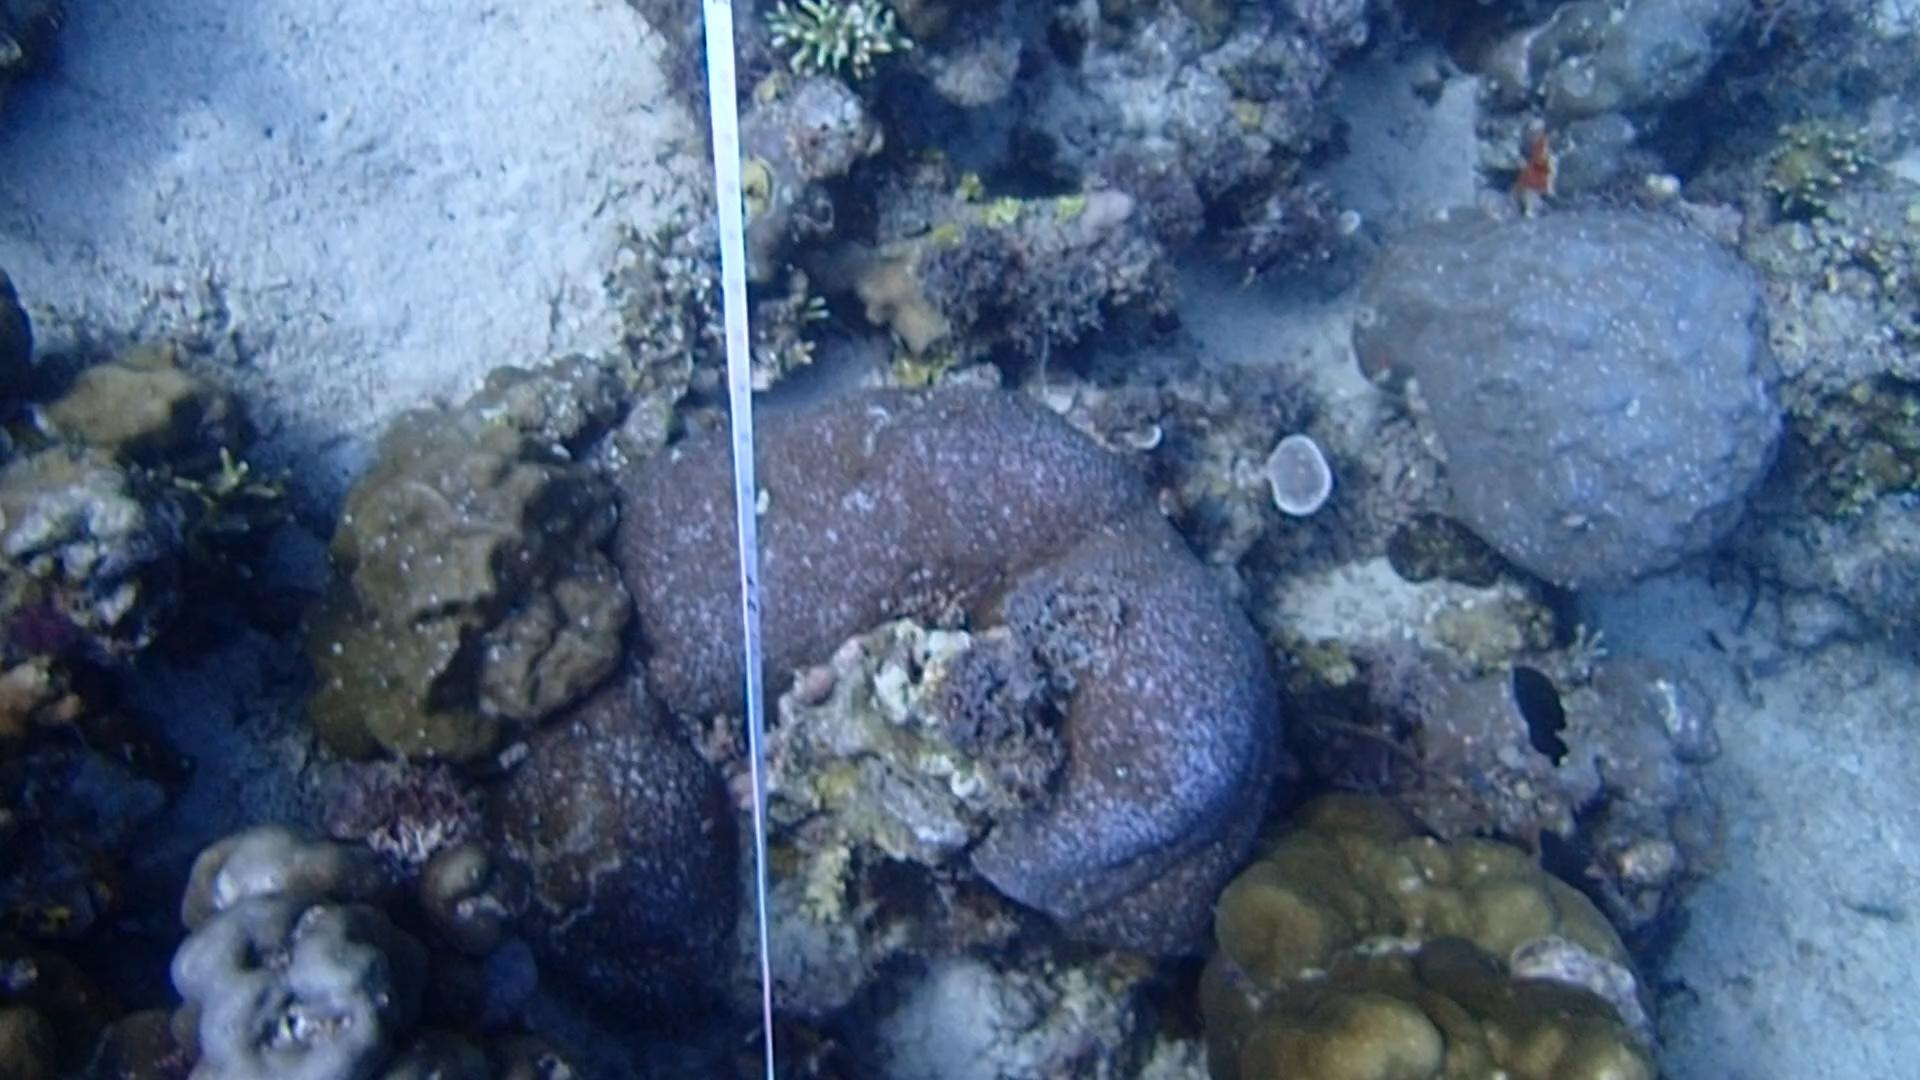Dark Fish: (1506, 651, 1584, 771)
